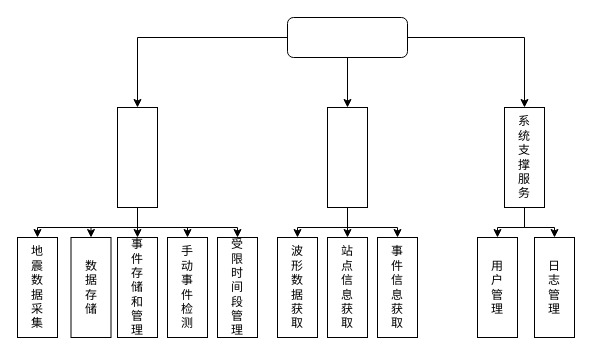
Image size: 592x355. Some labels were removed from this diagram. Here are the shapes that lost their labels. From the top down, the centre of each, then its label:
At point 347,37: "数据开放管理子系统".
At point 137,157: "数 据 支 撑 服 务".
At point 347,157: "数 据 获 取 服 务".
